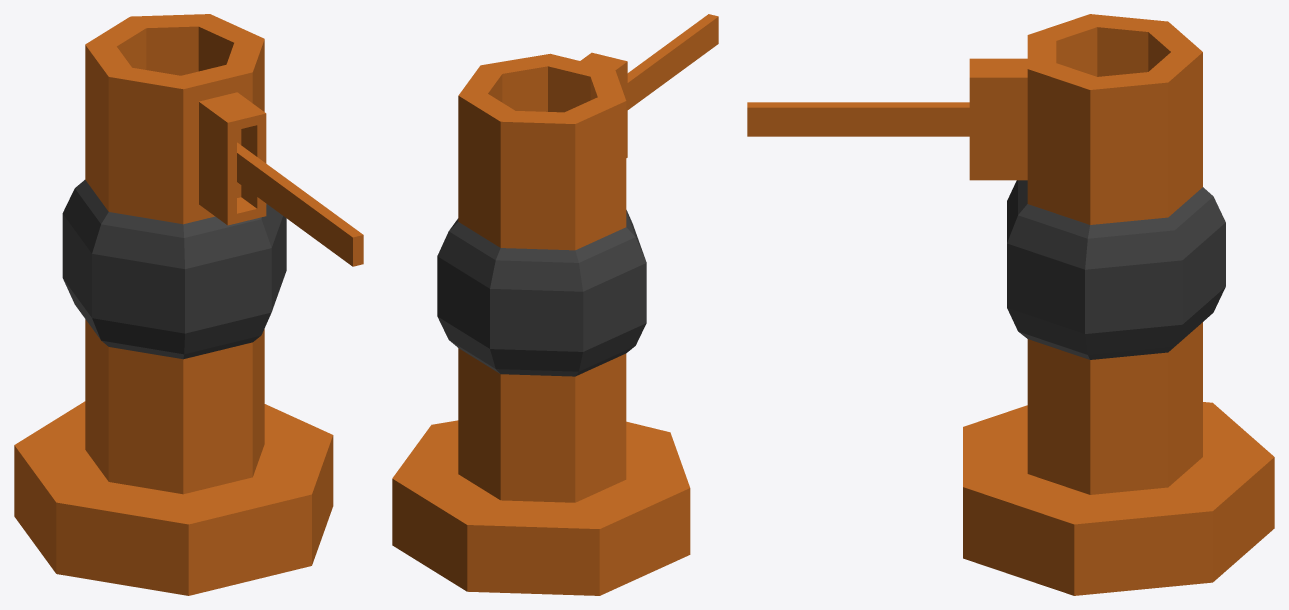
Rendered from Pump.fbx.
The picture shows the model from 3 angles, left to right: view 1: azimuth 30°, elevation 25°; view 2: azimuth 150°, elevation 25°; view 3: azimuth 270°, elevation 25°; orthographic projection. The views are drawn at different scales.
Parts seen in each view (by area): view 1: Pump, Pump_Handle; view 2: Pump, Pump_Handle; view 3: Pump, Pump_Handle.
Part boxes in pixels (x1=…): Pump: x1=14, y1=14, x2=333, y2=595; Pump_Handle: x1=237, y1=142, x2=363, y2=266; Pump: x1=392, y1=52, x2=690, y2=595; Pump_Handle: x1=627, y1=14, x2=718, y2=109; Pump: x1=963, y1=14, x2=1274, y2=595; Pump_Handle: x1=747, y1=102, x2=969, y2=136.
Bounding box in the file's own units: 195 × 321 × 322.
